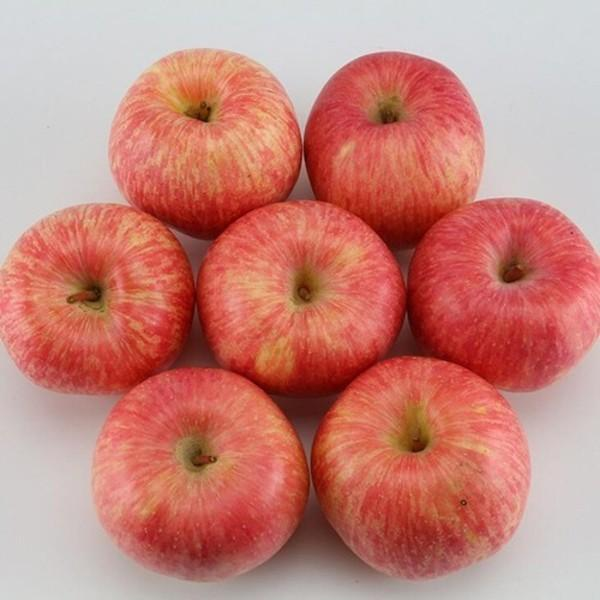apple: (306, 358, 536, 579), (93, 364, 315, 578), (196, 196, 407, 391), (405, 196, 599, 393), (1, 201, 193, 397), (105, 47, 300, 236), (305, 50, 488, 244)
